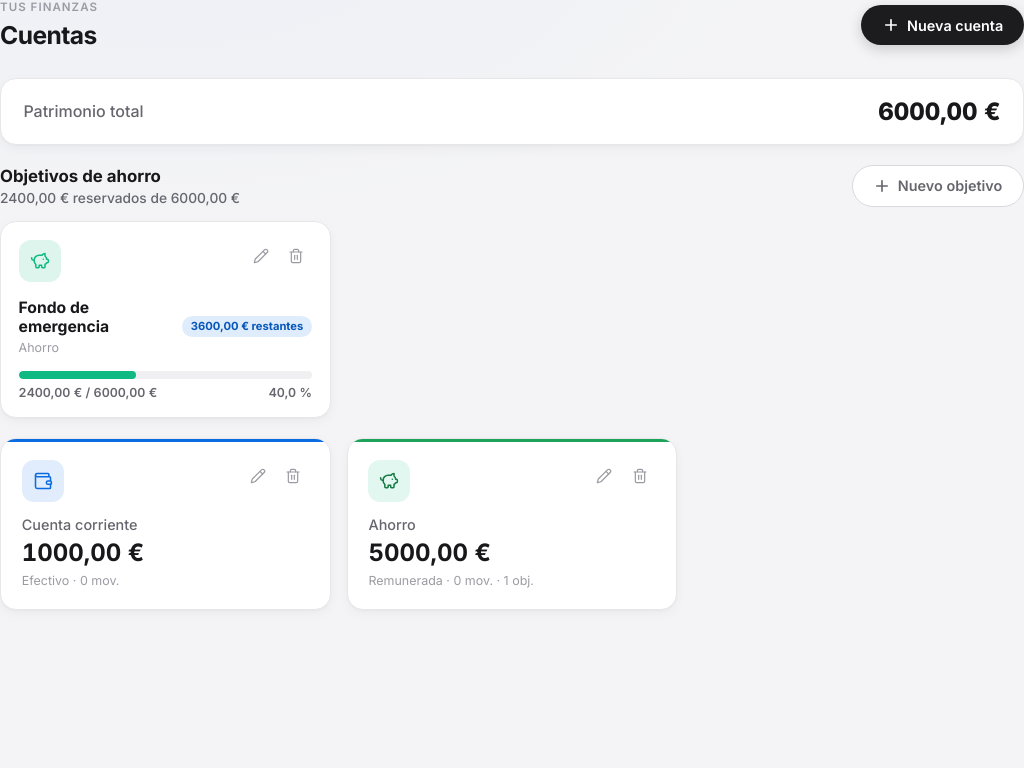
Test: AccountsPage › shows a delete confirmation for a savings goal
This screenshot has width=1024, height=768.
Step 1. Click the button named "Borrar objetivo Fondo de emergencia" → click(296, 256), box [280,240,312,272]
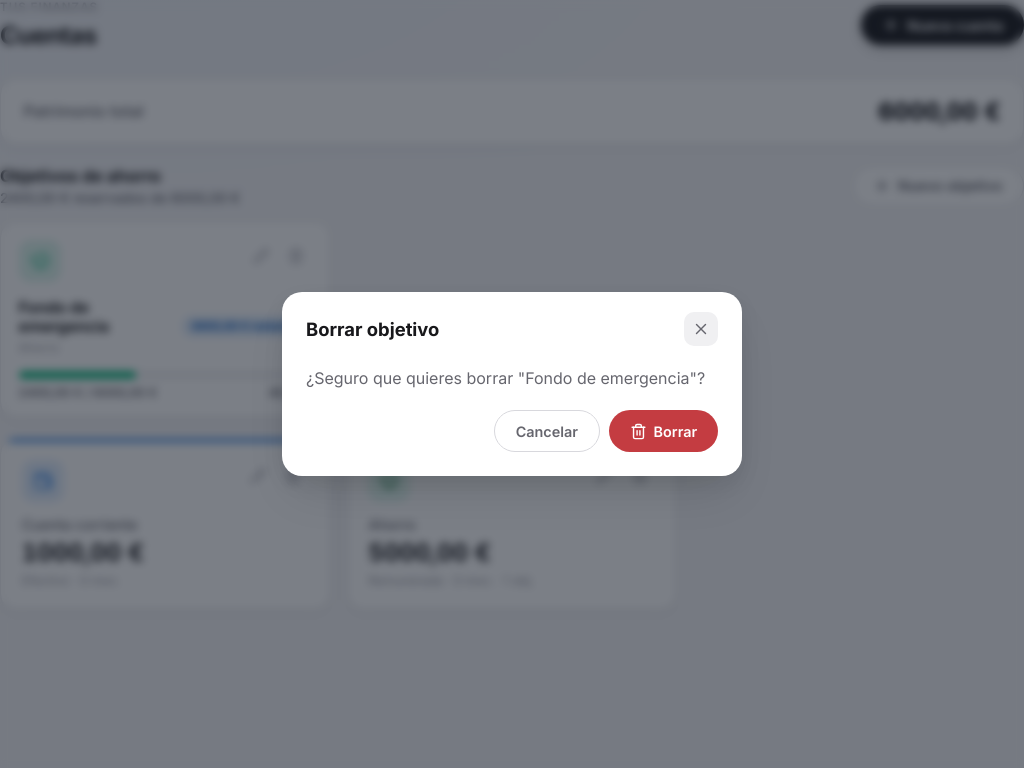
expect the heading "Borrar objetivo" is shown: met, box [306,318,439,340]
Step 2. Click the button "Cancelar" → click(547, 431), box [494,410,600,452]
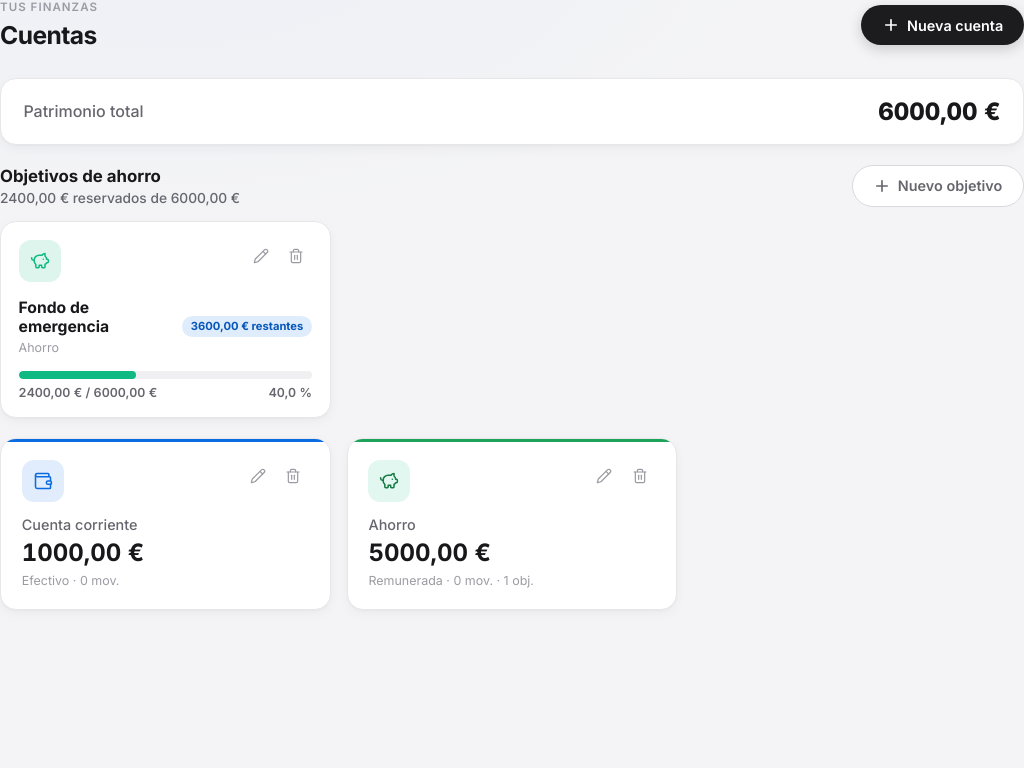
expect the heading "Borrar objetivo" is gone: met
